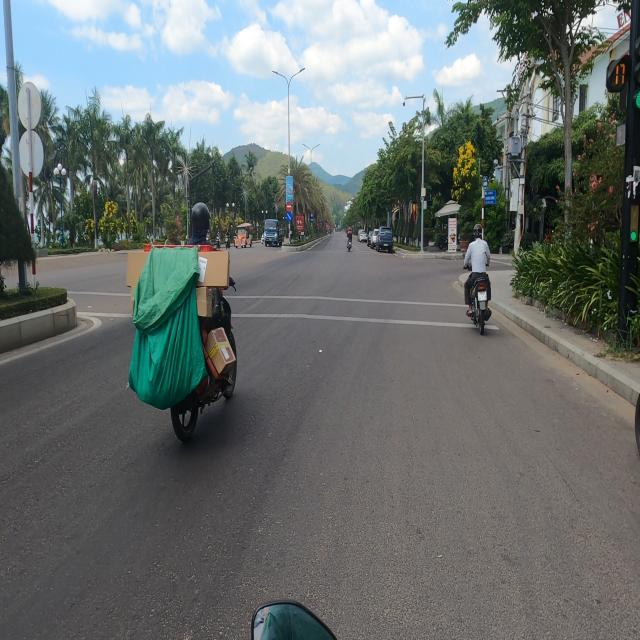walk-crossing: (231, 290, 474, 328), (72, 280, 134, 321)
